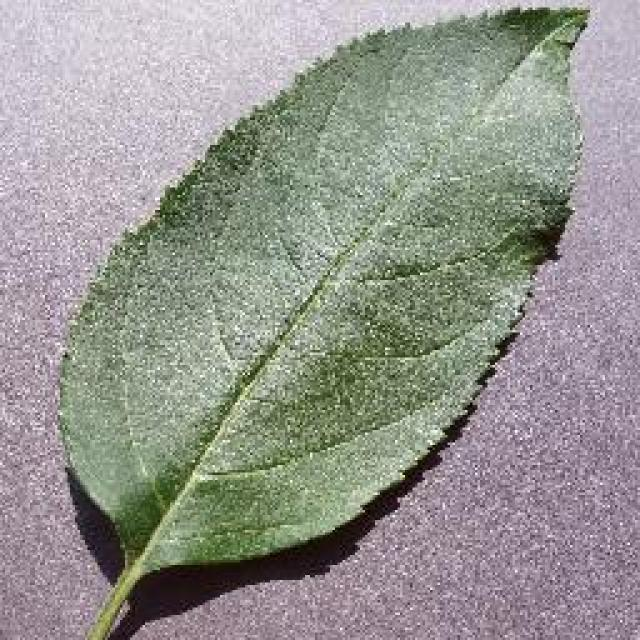apple healthy: (50, 0, 592, 638)
